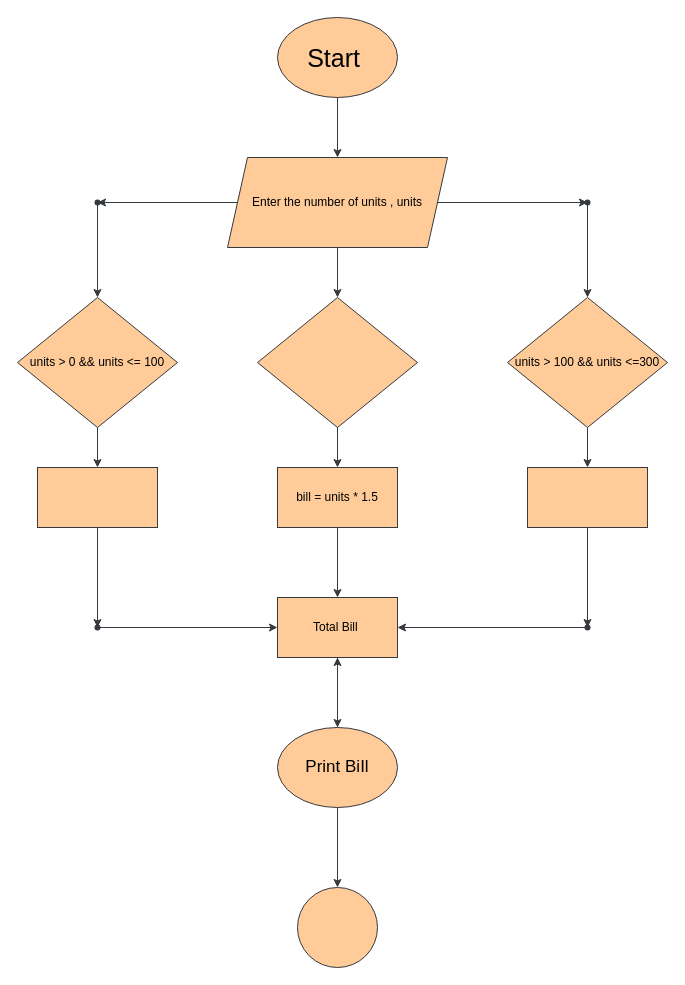
Some shapes in this 685 by 985 pixel diagram are drawn without their labels. The shapes that lost their labels are listed below. From the top down, each one's centre as x and y in pixels, then its label:
the point at 337,362: units > 100 && units <=200
the point at 97,497: bill = units * 1
the point at 587,497: bill = units * 2
the point at 337,927: END
